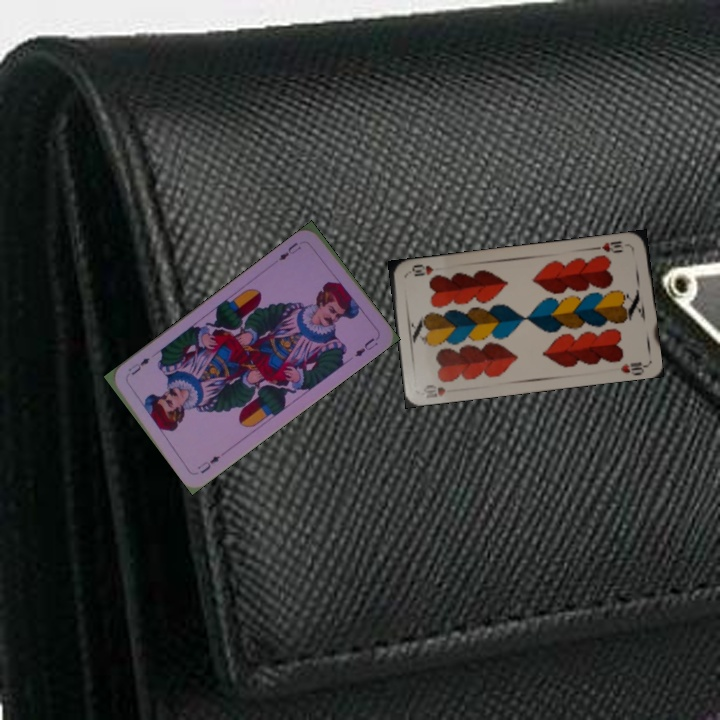EU: (274, 238, 304, 263), (193, 451, 223, 476)
H10: (591, 237, 625, 256), (420, 380, 448, 401)
